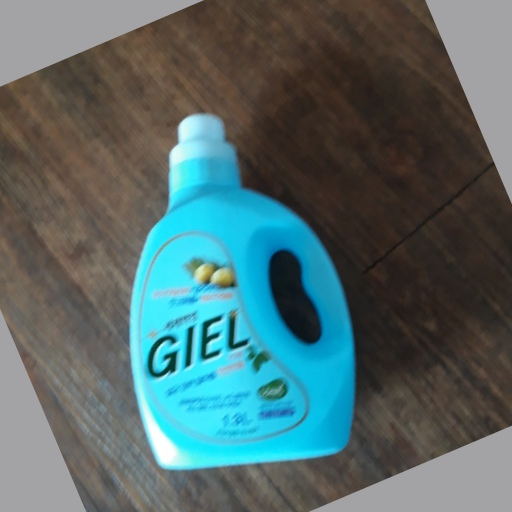Plastic_1: (132, 112, 357, 464)
